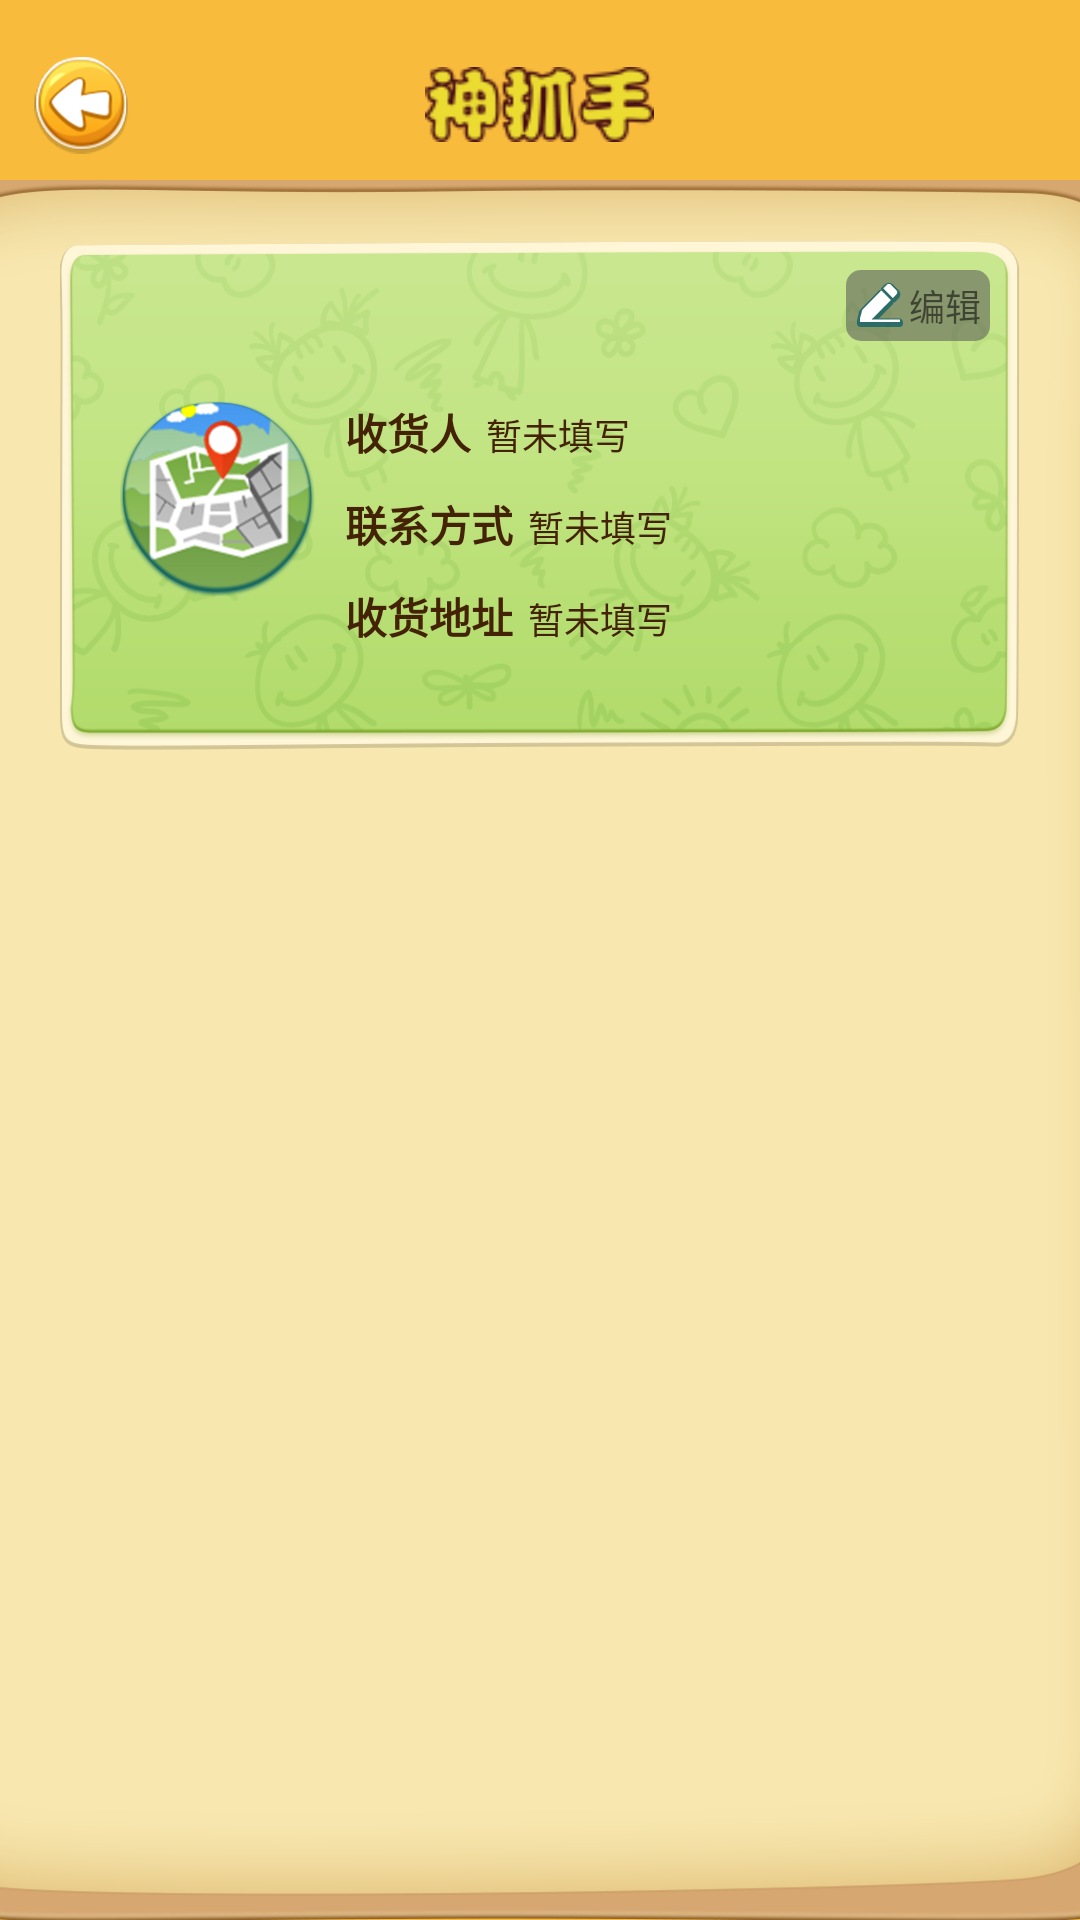

Point at icon controls on the screen. Image size 1080x1920, points as (x,y).
player back: (81,105)
